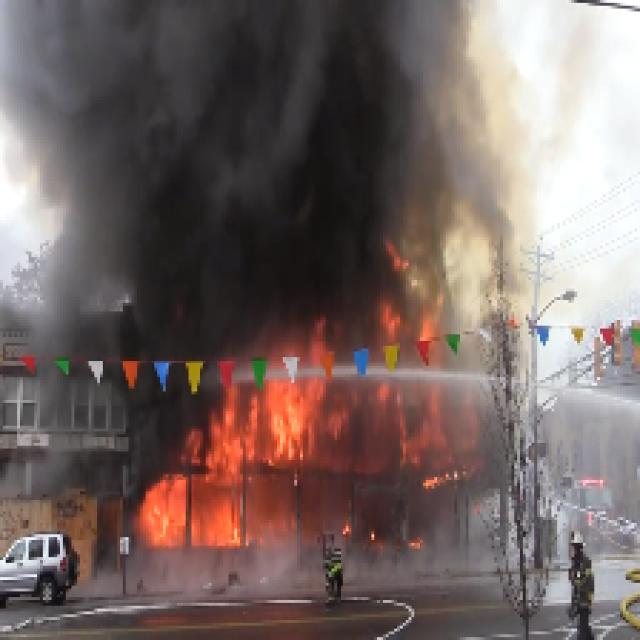fire: (142, 476, 244, 545), (221, 392, 291, 476)
smoke: (93, 15, 459, 341)
